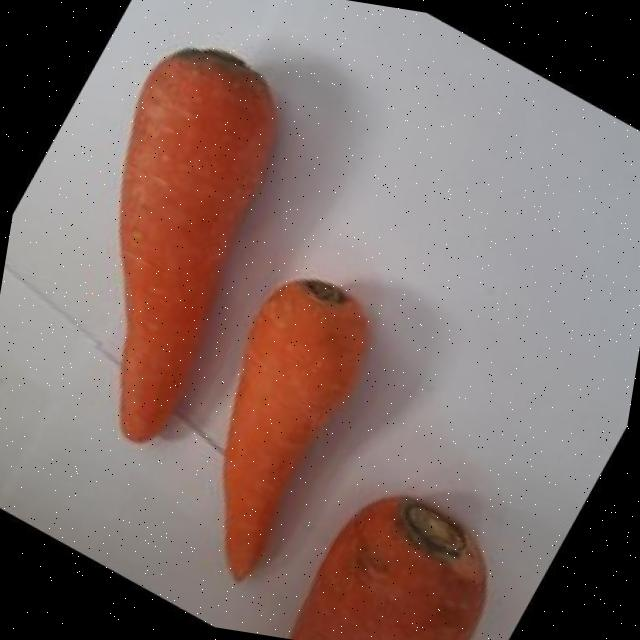carrot: (120, 48, 277, 441), (224, 279, 367, 579), (290, 498, 486, 640)
